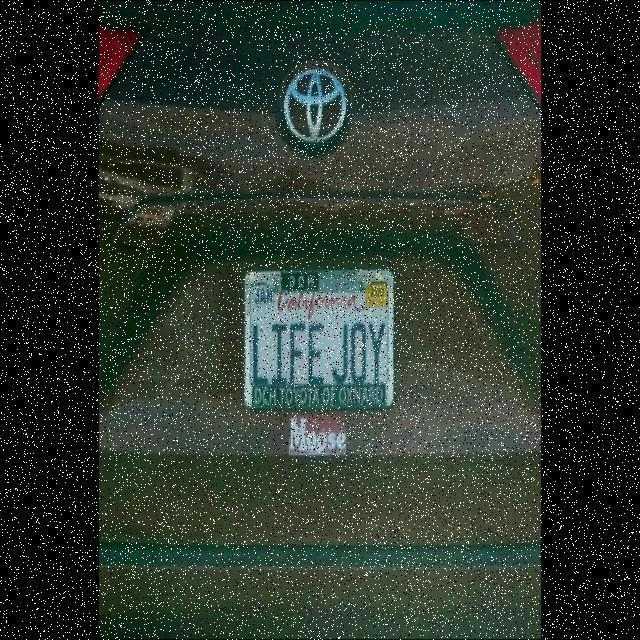License Plate: (244, 265, 392, 409)
